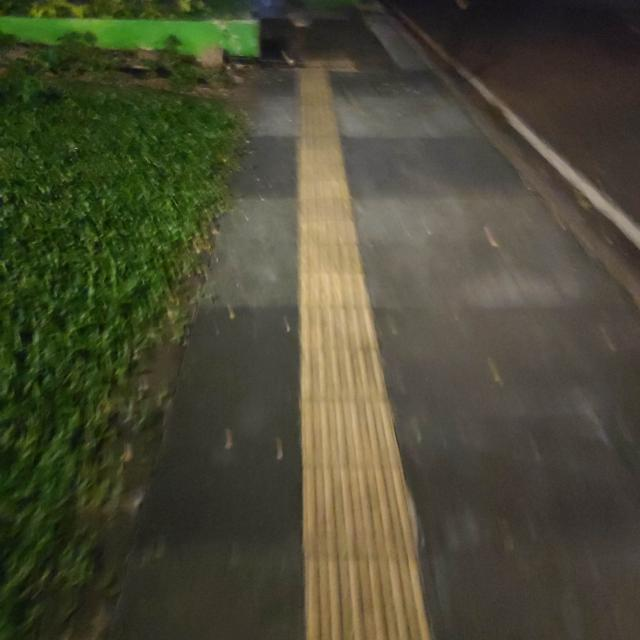lurus: (271, 140, 432, 640)
